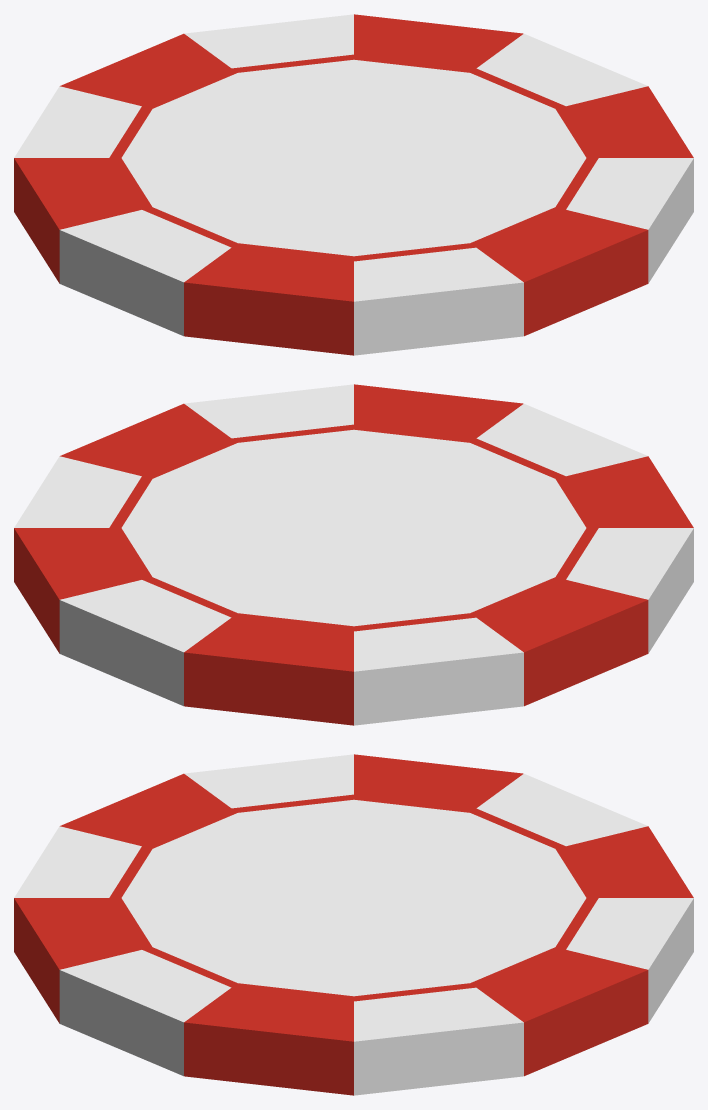
Rendered from token.glb.
The picture shows the model from 3 angles, top to bottom: view 1: azimuth 30°, elevation 25°; view 2: azimuth 150°, elevation 25°; view 3: azimuth 270°, elevation 25°; orthographic projection.
Parts seen in each view (by area): view 1: Cylinder; view 2: Cylinder; view 3: Cylinder.
Boxes of the visible parts, box(x1,y1,x2,y2) form: Cylinder: box(14, 14, 693, 355); Cylinder: box(14, 384, 693, 725); Cylinder: box(14, 754, 693, 1095).
Bounding box in the file's own units: 2 × 0.175 × 2.
Materials: 1 (1 with a texture image).
